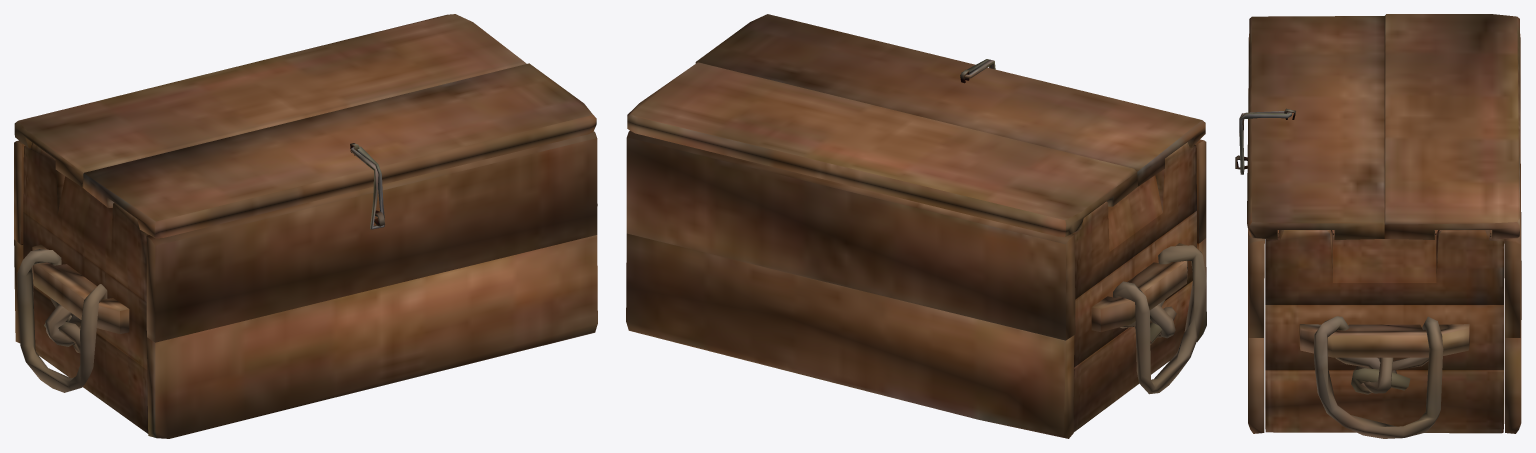
File: crate-wooden-01.lite.8ce8c4b6.glb
3 views of the same model, side by side, from view 1: azimuth 30°, elevation 25°; view 2: azimuth 150°, elevation 25°; view 3: azimuth 270°, elevation 25° (orthographic). The views are drawn at different scales.
Visible parts, largest first — view 1: model; view 2: model; view 3: model.
Boxes of the visible parts, <box> form: model: <box>14,14,597,438</box>; model: <box>626,14,1206,438</box>; model: <box>1235,14,1521,438</box>.
Size of the model in its own units: 0.8245 by 0.3469 by 0.4056.
Materials: 1 (1 with a texture image).
